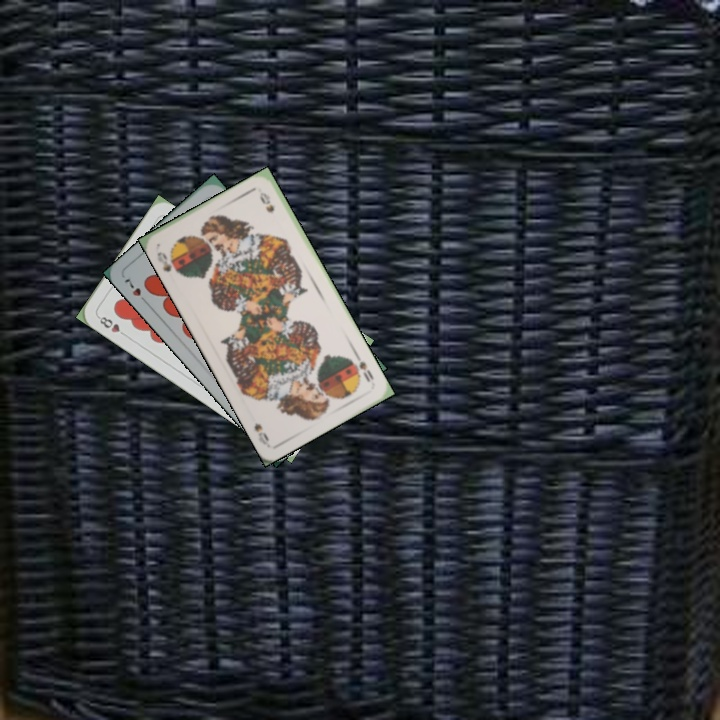H7: (120, 275, 151, 307)
H8: (94, 312, 130, 339)
SO: (347, 350, 377, 385), (153, 247, 184, 278)
